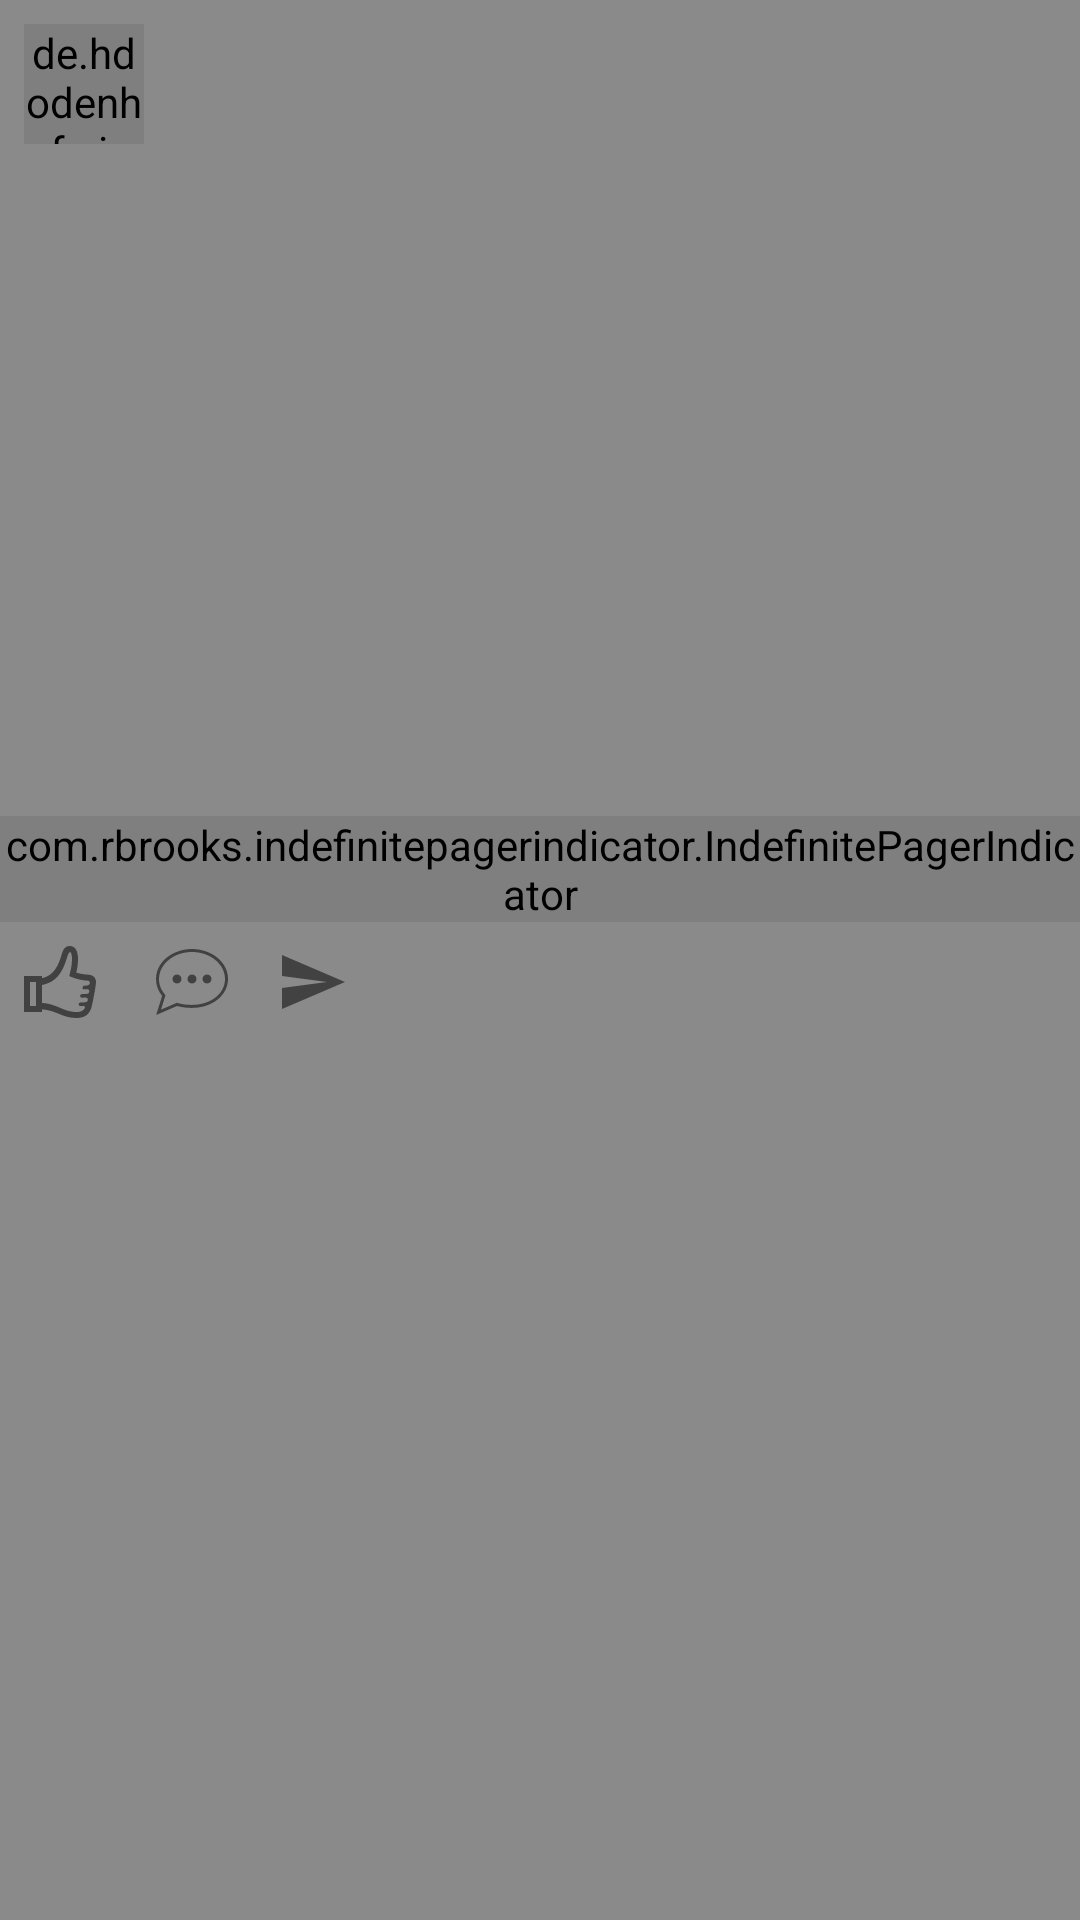

Named icons in this screenshot (1080w x 1920h) and their centers, [x,y]:
comment: [192,982]
direct: [313,982]
unliked: [60,982]
